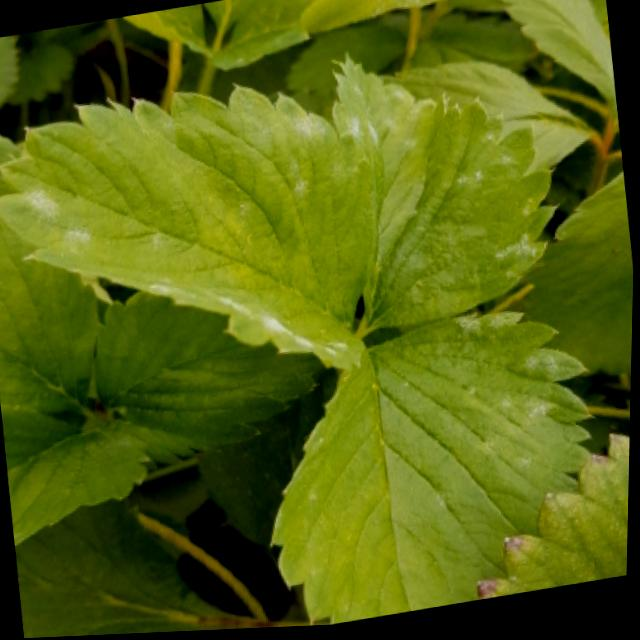Powdery Mildew Leaf: (0, 87, 386, 376), (271, 315, 595, 629), (328, 54, 559, 344)
